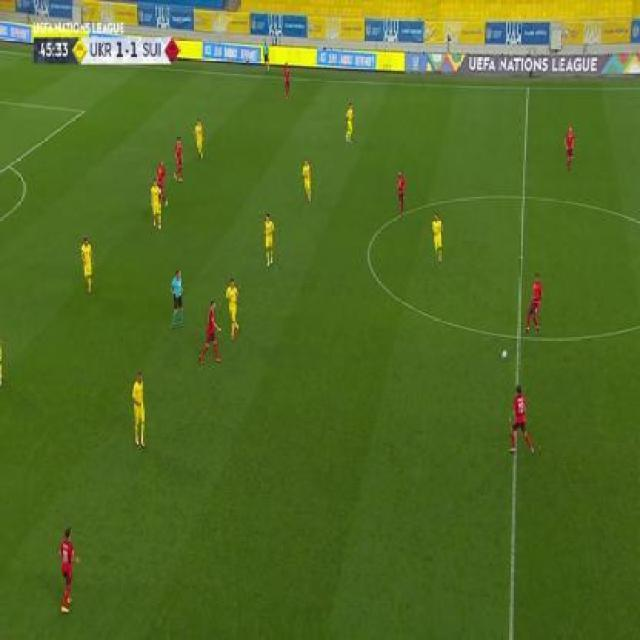ball: (501, 348, 509, 361)
player: (507, 383, 535, 457), (56, 525, 79, 613), (199, 298, 224, 367), (523, 272, 545, 335), (130, 368, 147, 447), (225, 277, 241, 342), (79, 235, 95, 297), (169, 268, 185, 330), (149, 178, 163, 232), (430, 211, 444, 264), (262, 212, 275, 268), (395, 169, 408, 222), (156, 159, 169, 210), (300, 156, 313, 204), (171, 135, 184, 183), (563, 125, 576, 171), (192, 118, 205, 160), (343, 102, 356, 144), (0, 334, 8, 387), (282, 61, 291, 101), (262, 38, 271, 74)
